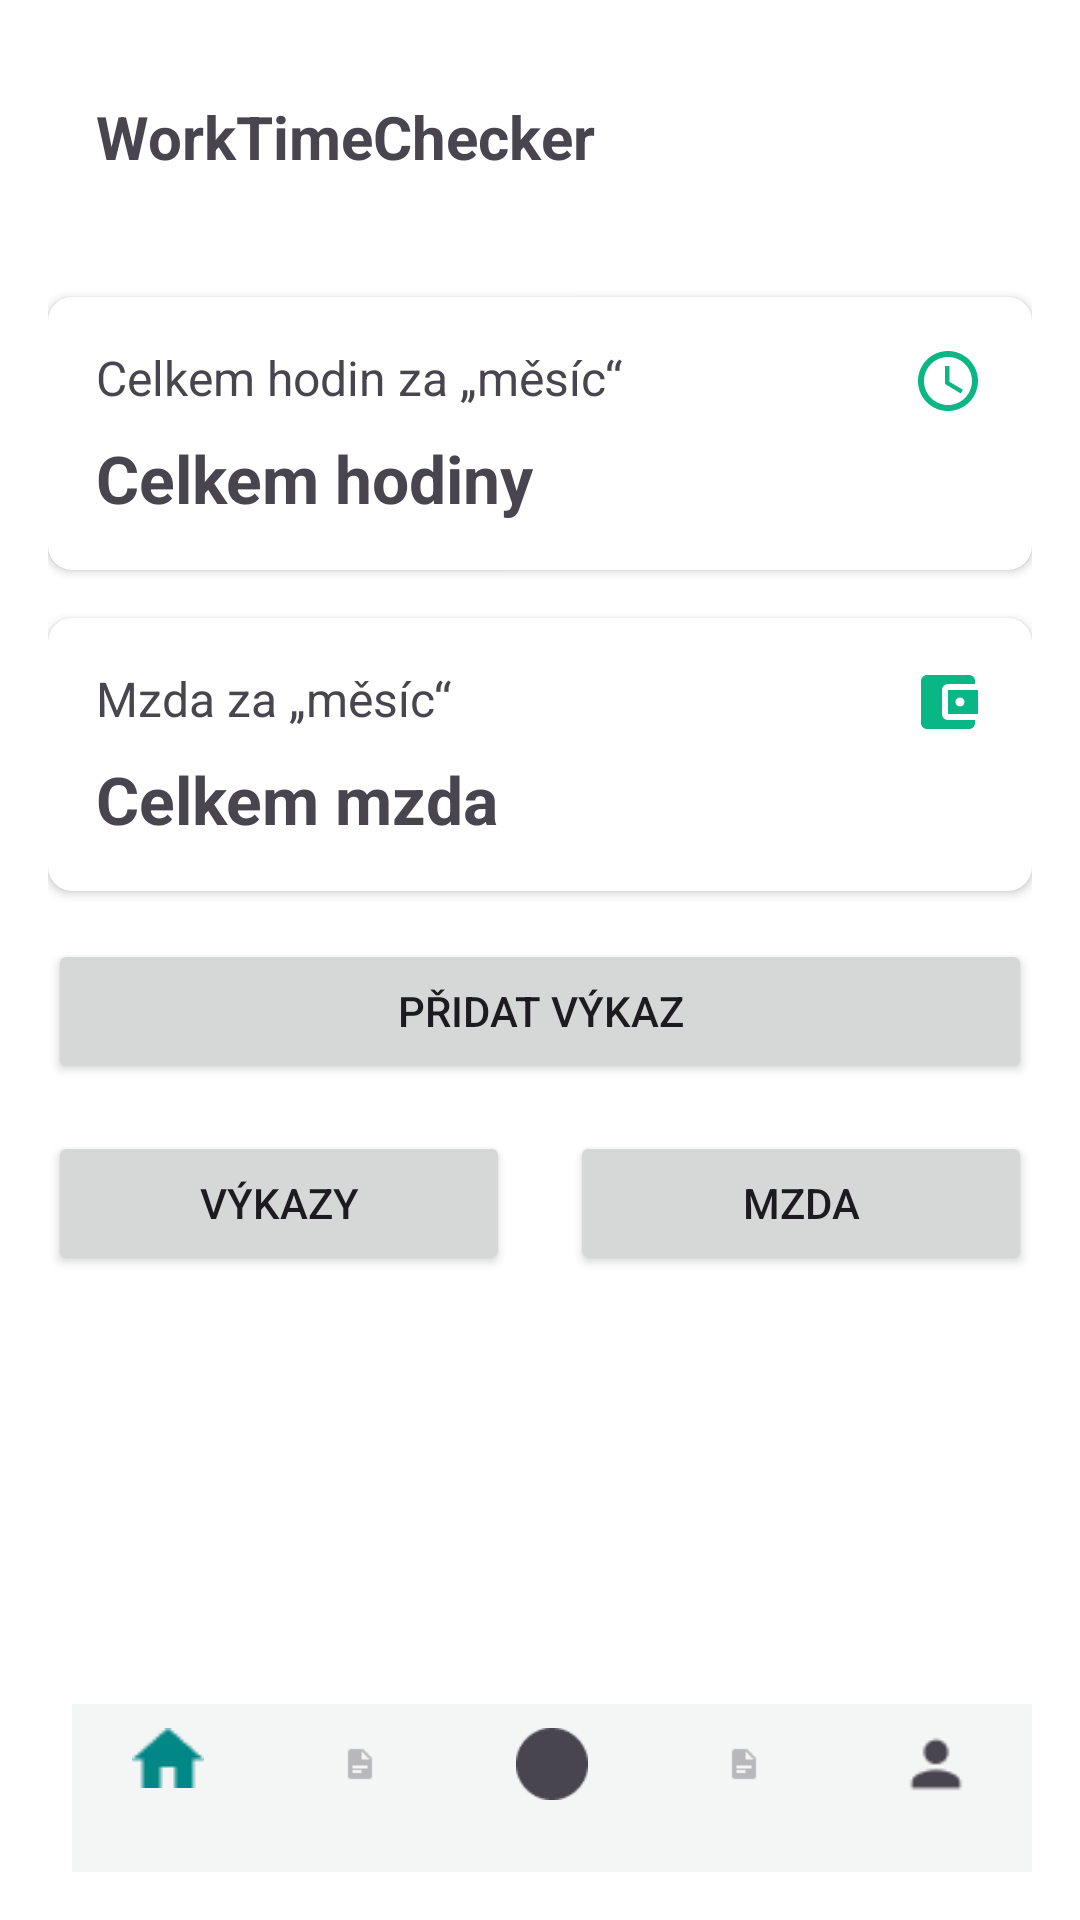

Named icons in this screenshot (1080x1920) and their centers, point (x, y):
clock: point (948, 381)
wallet: point (949, 702)
